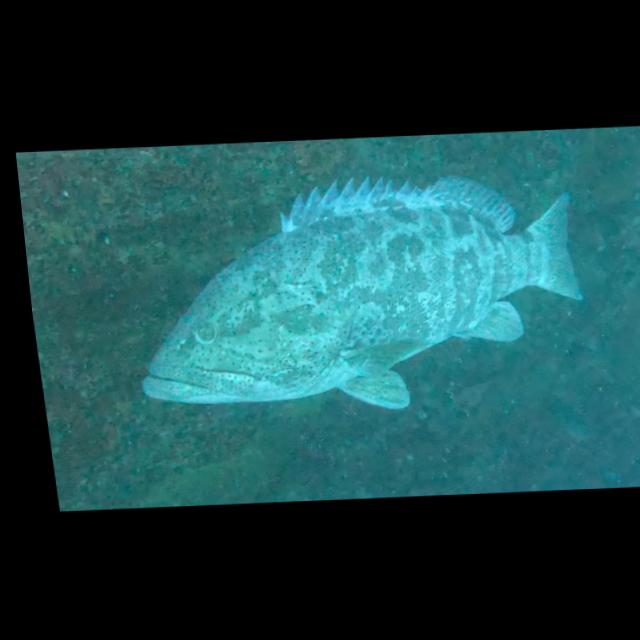Groupers: (111, 162, 600, 421)
